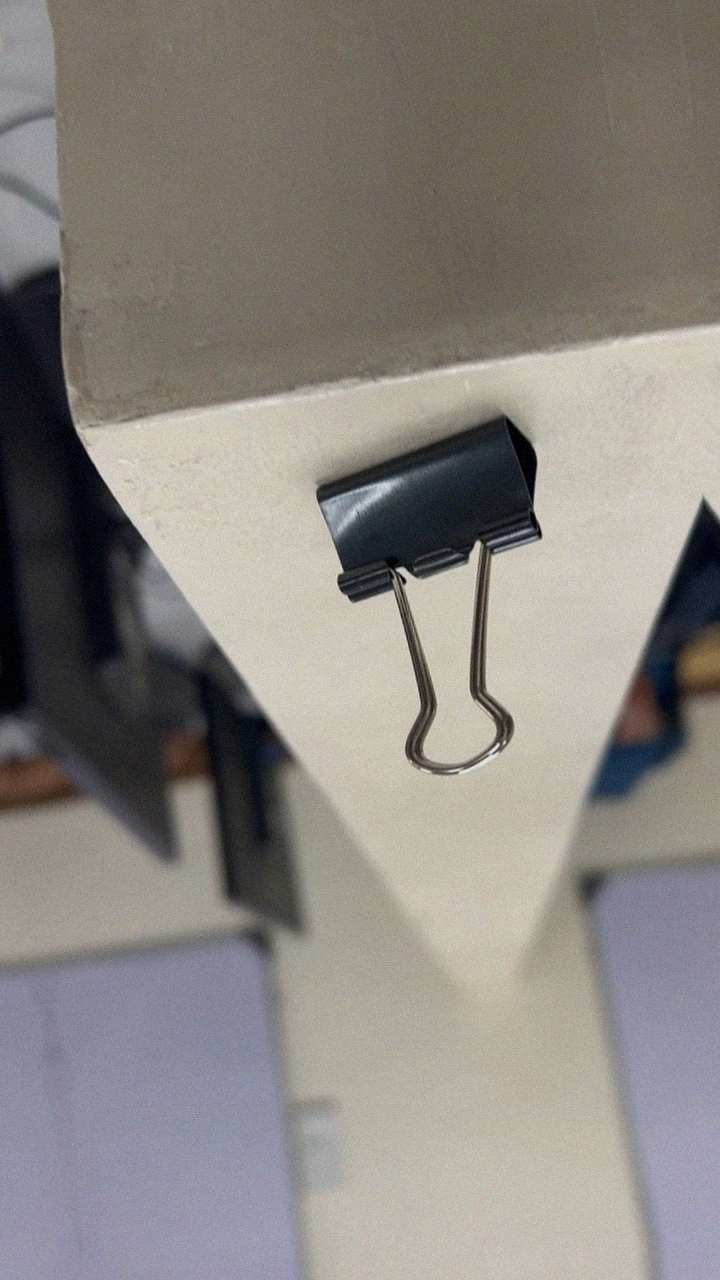kep_giay: (306, 414, 585, 793)
